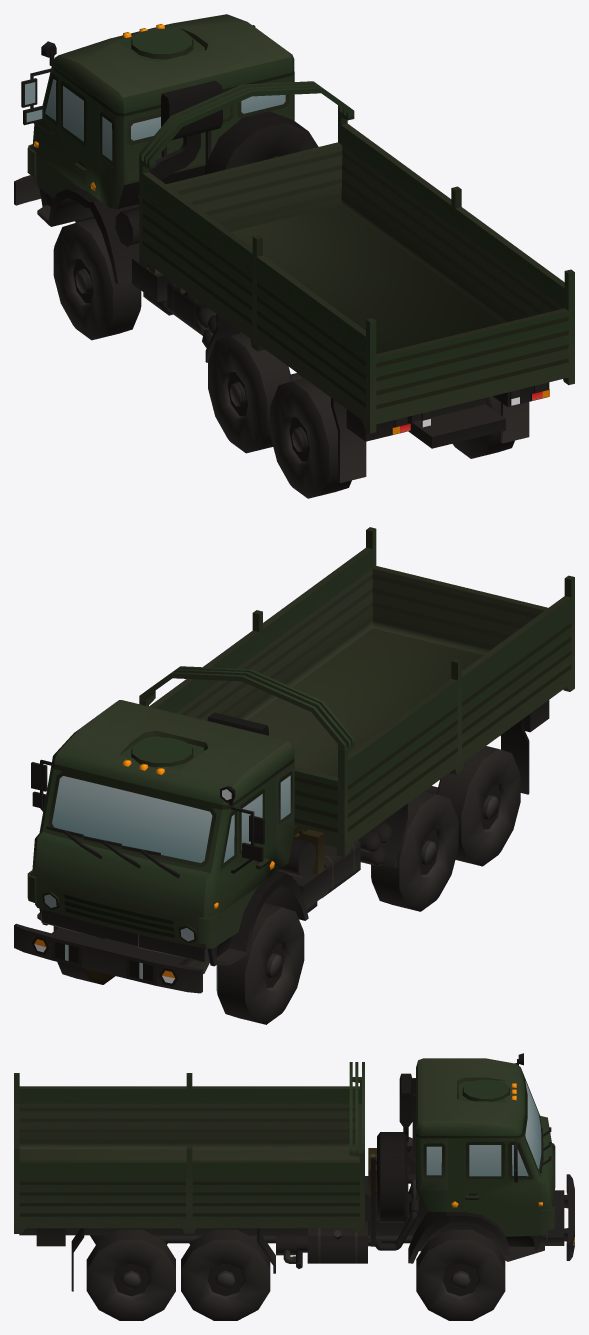
Rendered from vehicle-kamaz-5350.glb.
3 views of the same model, one above another, from view 1: azimuth 30°, elevation 25°; view 2: azimuth 150°, elevation 25°; view 3: azimuth 270°, elevation 25° (orthographic). The views are drawn at different scales.
Visible parts, largest first — view 1: Cube, Cube.001, Cylinder.002, Cylinder.002_Piece, Cube.001_Piece.002, Cylinder.001_Piece, Cube.008, Cube.004, Cylinder.008, Cube.013, Cylinder.011, Cube.007 (+5 smaller); view 2: Cube, Cube.001, Cylinder.002, Cube.003, Cube.001_Piece.002, Cylinder.001_Piece, Cube.001_Piece.001_Piece, Cube.024, Cylinder.008, Cube.007, Cube.009, Cylinder.005 (+6 smaller); view 3: Cube, Cylinder.002, Cube.001, Cube.008, Cylinder.002_Piece, Cube.001_Piece.002, Cube.006, Line.001, Cylinder.008, Cube.009, Cube.004, Cylinder.004_Piece (+6 smaller).
Part boxes in pixels (<box>): Cube: <box>139,81,574,433</box>; Cube.001: <box>32,14,294,208</box>; Cylinder.002: <box>53,218,514,498</box>; Cylinder.002_Piece: <box>205,111,318,174</box>; Cube.001_Piece.002: <box>37,187,139,284</box>; Cylinder.001_Piece: <box>205,314,529,483</box>; Cube.008: <box>75,204,505,448</box>; Cube.004: <box>161,80,222,139</box>; Cylinder.008: <box>131,28,193,59</box>; Cube.013: <box>346,382,549,441</box>; Cylinder.011: <box>137,133,200,197</box>; Cube.007: <box>167,280,208,335</box>; Cube: <box>139,527,574,857</box>; Cube.001: <box>32,700,294,948</box>; Cylinder.002: <box>53,746,520,1024</box>; Cube.003: <box>14,923,202,993</box>; Cube.001_Piece.002: <box>37,871,308,966</box>; Cylinder.001_Piece: <box>380,719,529,868</box>; Cube.001_Piece.001_Piece: <box>41,909,204,962</box>; Cube.024: <box>31,759,264,873</box>; Cylinder.008: <box>131,737,193,767</box>; Cube.007: <box>322,840,360,897</box>; Cube.009: <box>52,927,197,966</box>; Cylinder.005: <box>358,822,391,865</box>; Cube: <box>14,1062,364,1233</box>; Cylinder.002: <box>86,1229,505,1320</box>; Cube.001: <box>416,1058,555,1236</box>; Cube.008: <box>19,1194,544,1261</box>; Cylinder.002_Piece: <box>377,1132,407,1222</box>; Cube.001_Piece.002: <box>408,1185,542,1263</box>; Cube.006: <box>307,1221,367,1263</box>; Line.001: <box>283,1179,419,1268</box>; Cylinder.008: <box>462,1079,509,1101</box>; Cube.009: <box>539,1190,568,1245</box>; Cube.004: <box>399,1073,412,1127</box>; Cylinder.004_Piece: <box>154,1235,413,1243</box>.
Size of the model in its own units: 2.89 by 3.25 by 7.94.
Materials: 1 (1 with a texture image).
